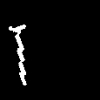half_double_crochet: (9, 25, 25, 84)
